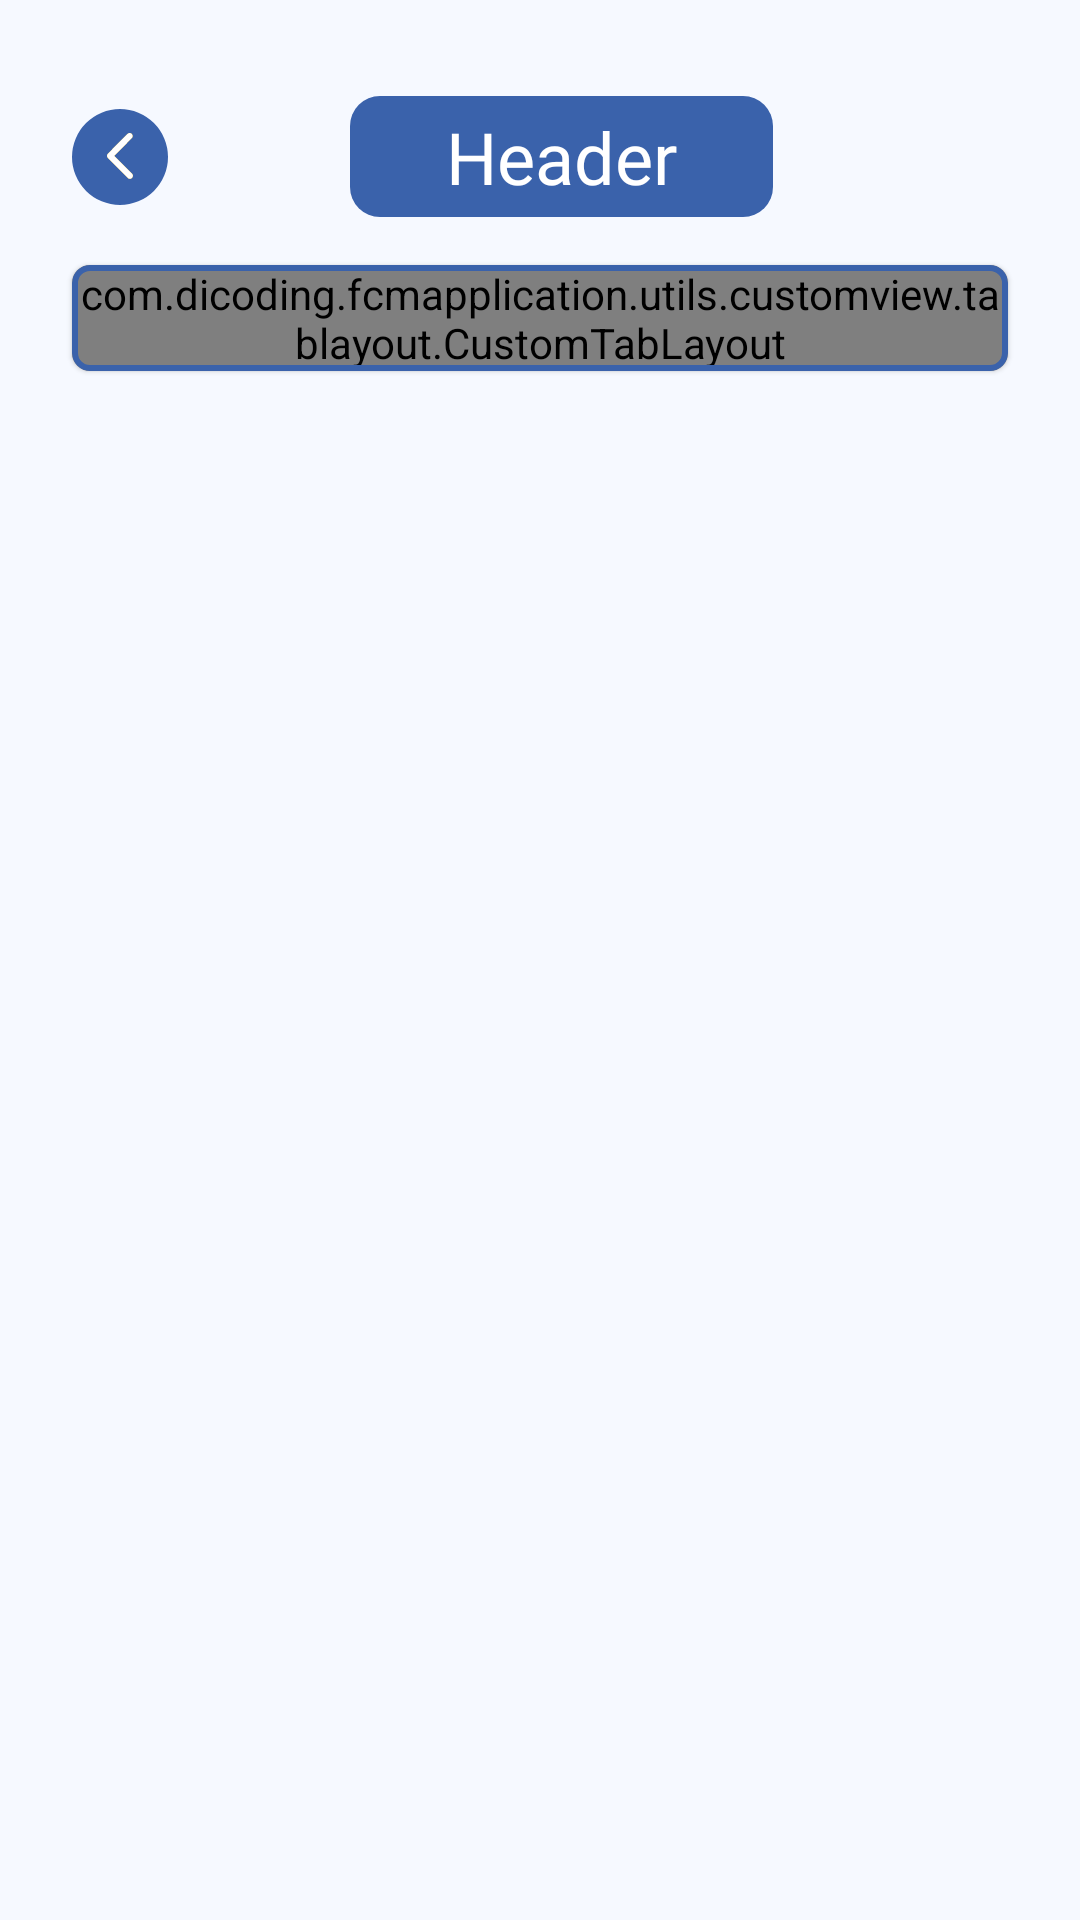

Where to tap for icons on this 1080px x 1920px app screen, as point (x, y):
back: point (120, 157)
